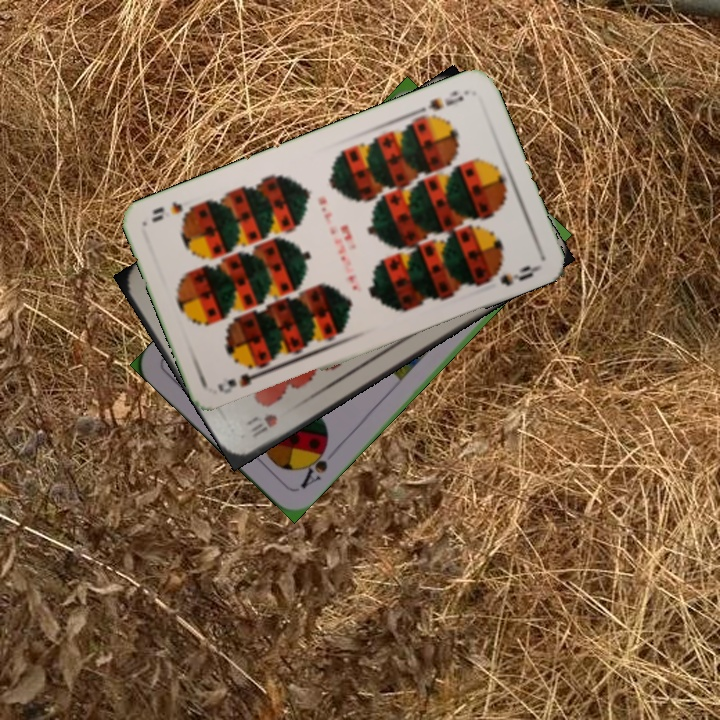H10: (246, 409, 280, 441)
S9: (415, 86, 472, 115), (223, 361, 270, 390)
SA: (296, 439, 331, 492)
